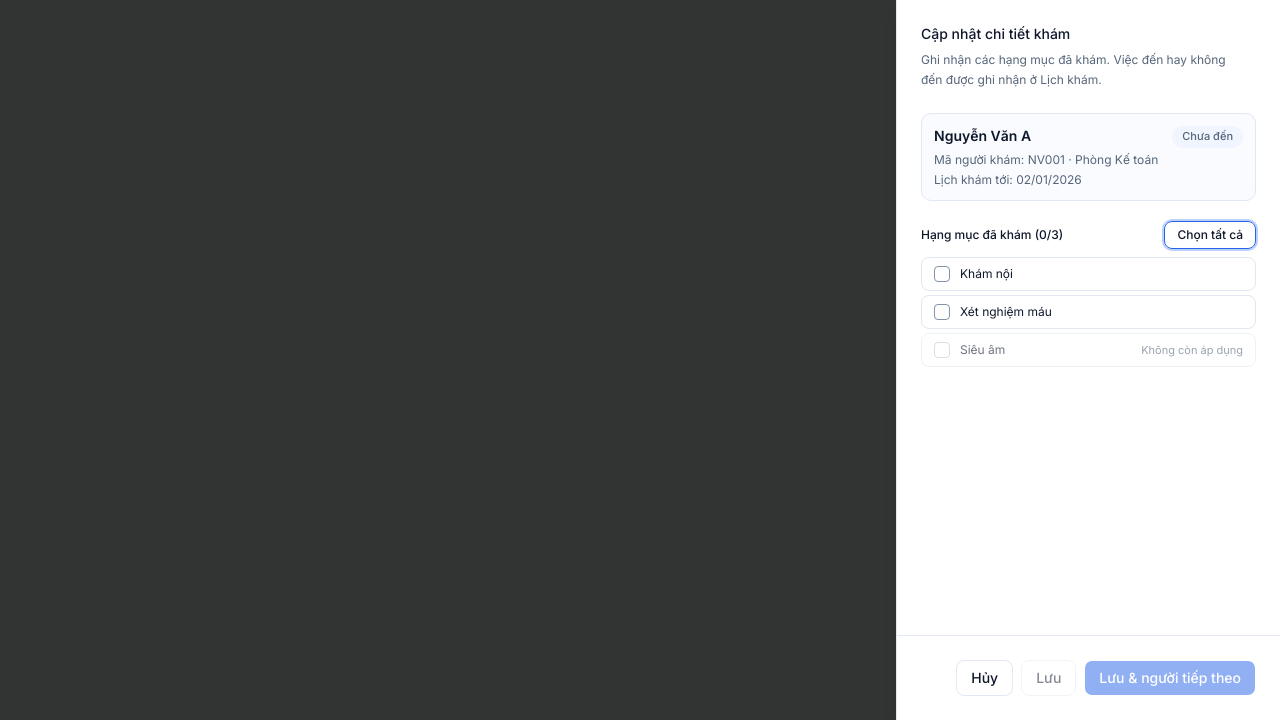
Scenario: ExaminationDetailEntrySheet › selects every offered service at once
Click the button "Chọn tất cả": (1210, 235) [1164,221,1256,249]
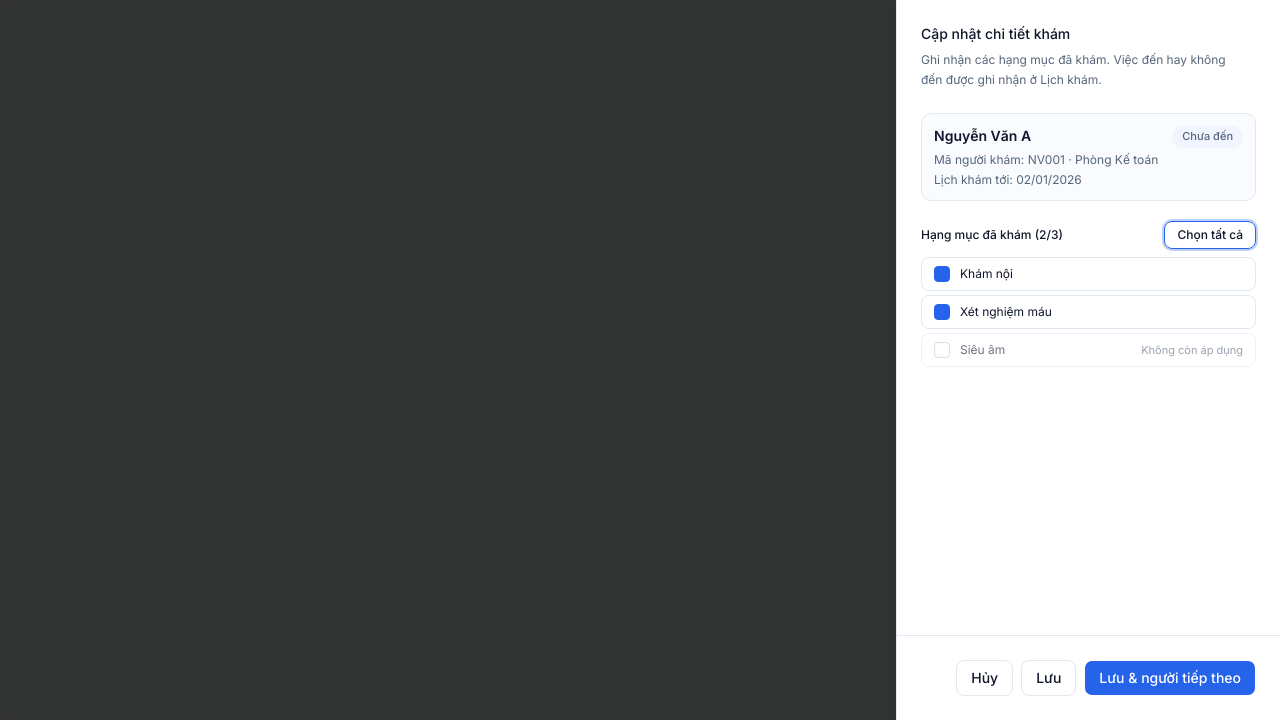
Expected: the checkbox named "Siêu âm" next to "Siêu âm" is not checked, [934,342,950,358]
Now the checkbox named "Khám nội" next to "Khám nội" is checked, box [934,266,950,282]
Now the checkbox named "Xét nghiệm máu" next to "Xét nghiệm máu" is checked, box [934,304,950,320]
